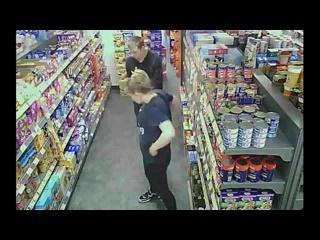Normal: (124, 69, 178, 210), (125, 36, 164, 90)
